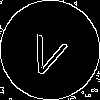V: (25, 25, 72, 79)
